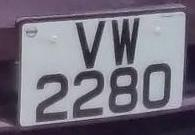2: (30, 64, 73, 127), (67, 66, 111, 120)
8: (106, 63, 141, 116)
V: (72, 16, 111, 73)
W: (107, 14, 146, 73)
